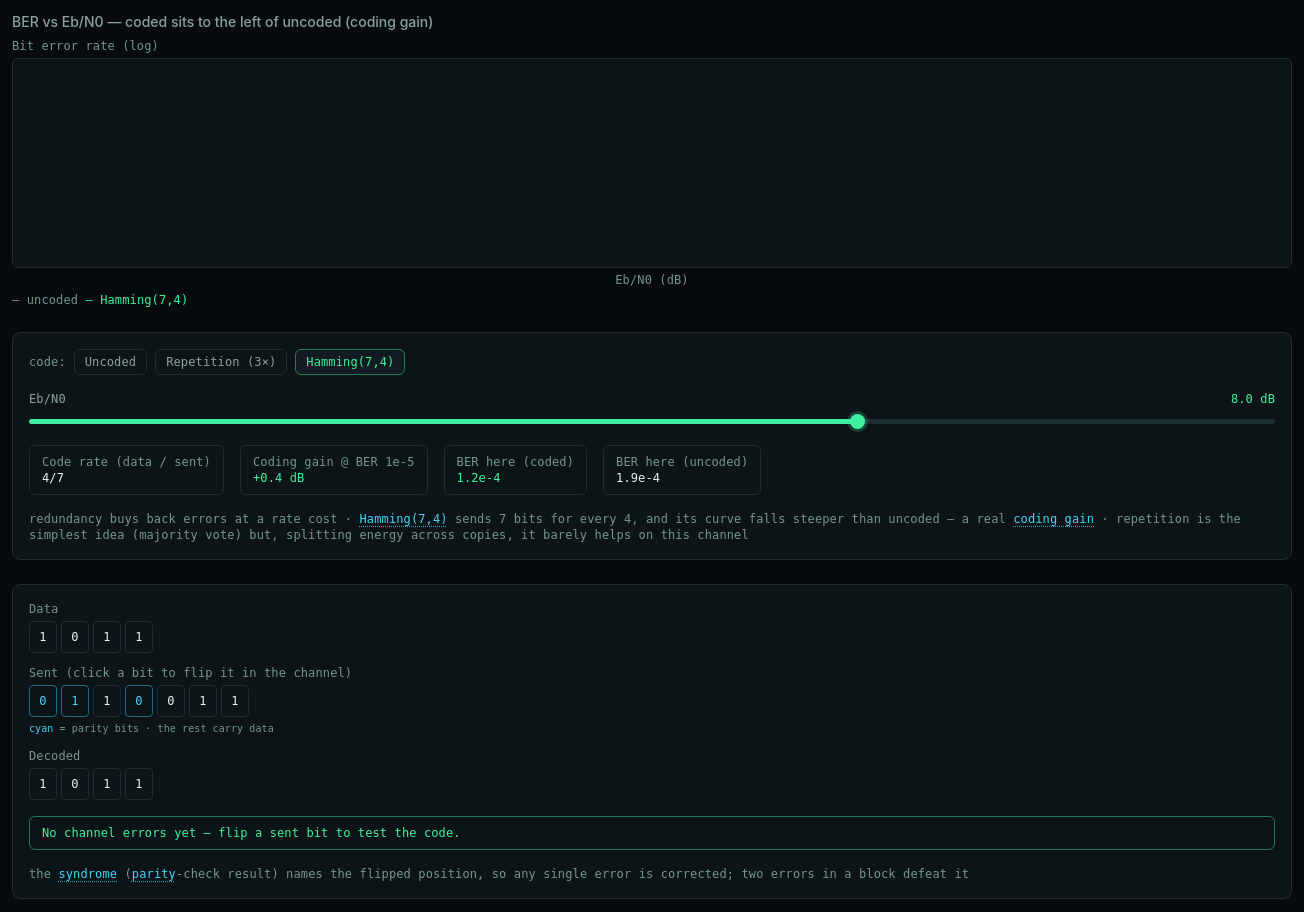
Coding & Equalization modules render and interact › Channel Coding renders the BER curve and corrects a single flipped bit
Check: the picture named "bit error rate versus Eb/N0" is shown, box top-left (12, 58), bottom-right (1292, 268)
Click the button named "sent bit 0".
click(43, 701)  # box top-left (29, 685), bottom-right (57, 717)
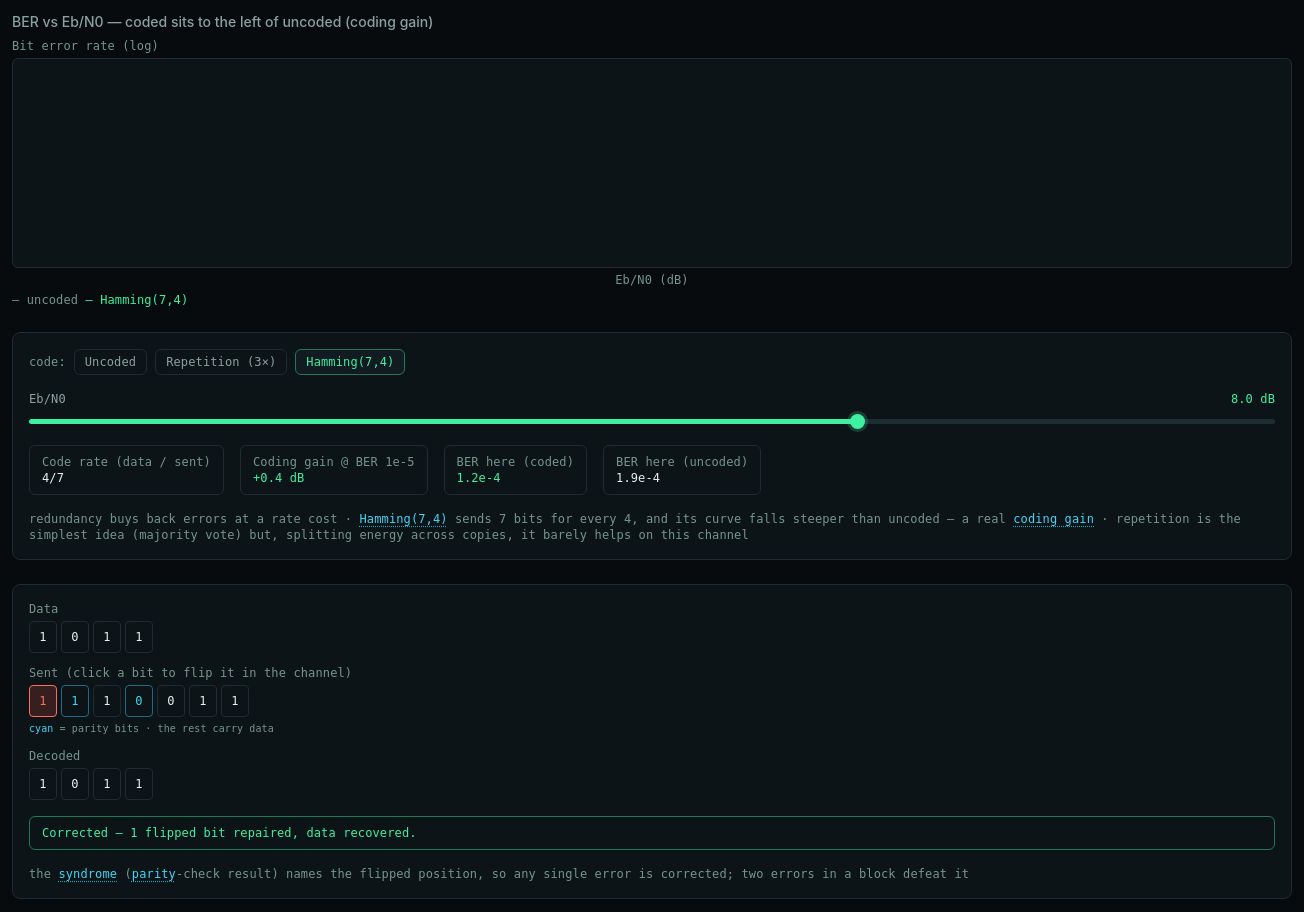
Check: the text "Corrected — 1 flipped bit repaired, data recovered." is shown, box top-left (29, 816), bottom-right (1275, 850)
